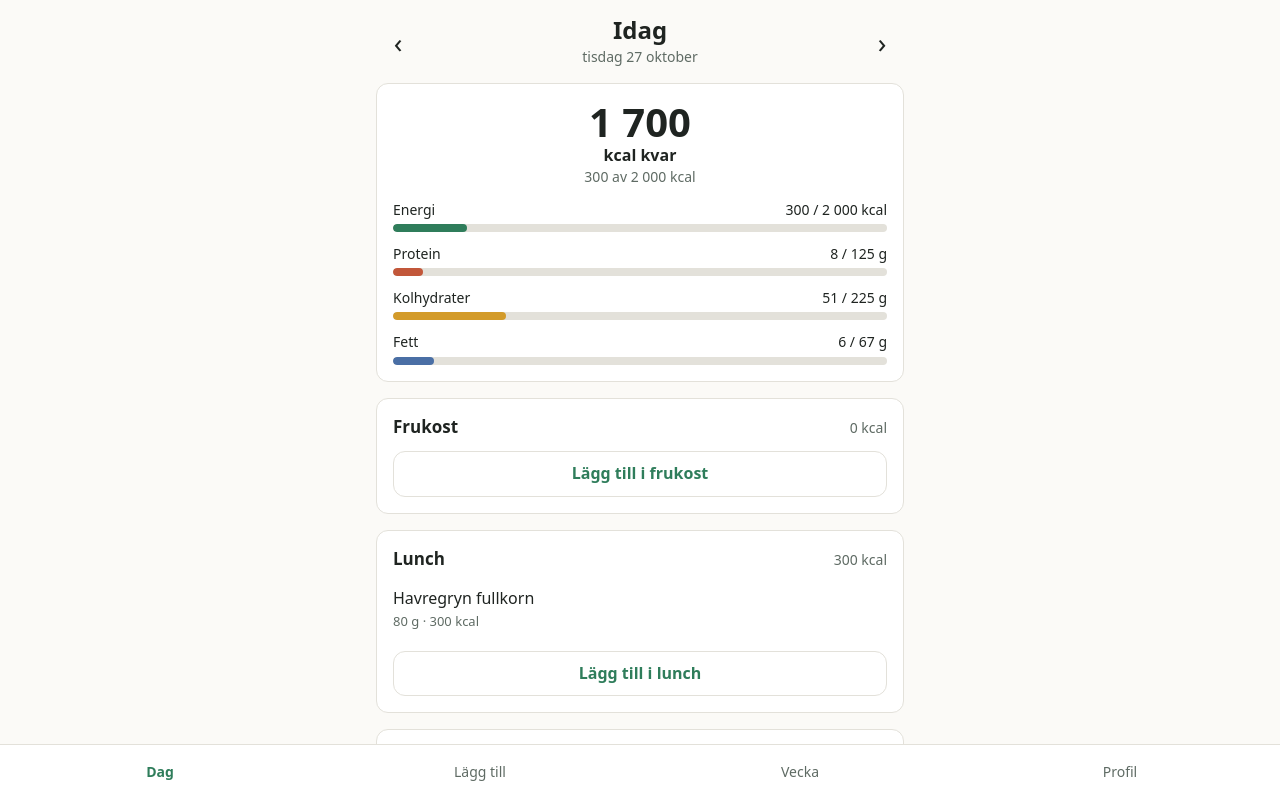
Test: stänger panelen med Escape utan att spara
Click the button "Havregryn fullkorn 80 g · 300 kcal": (464, 598) 393,579 -> 887,639
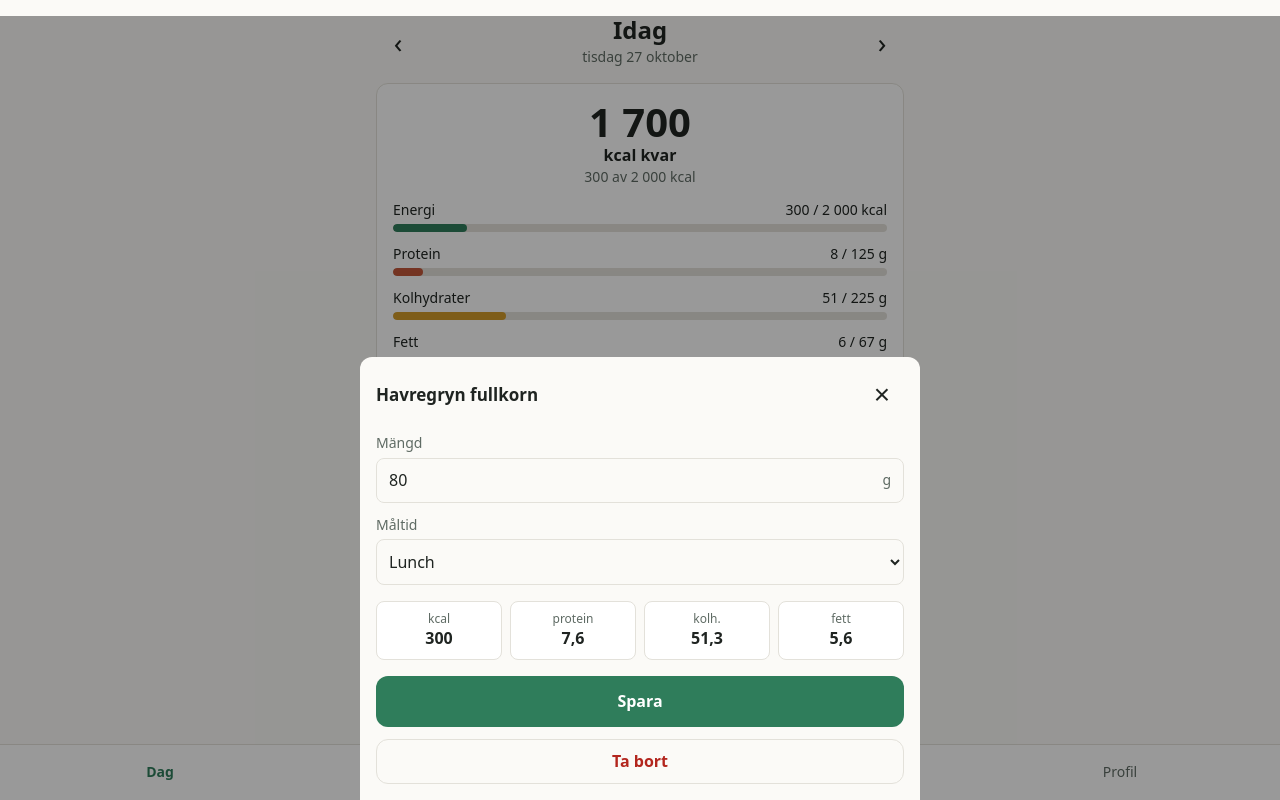
Press Escape
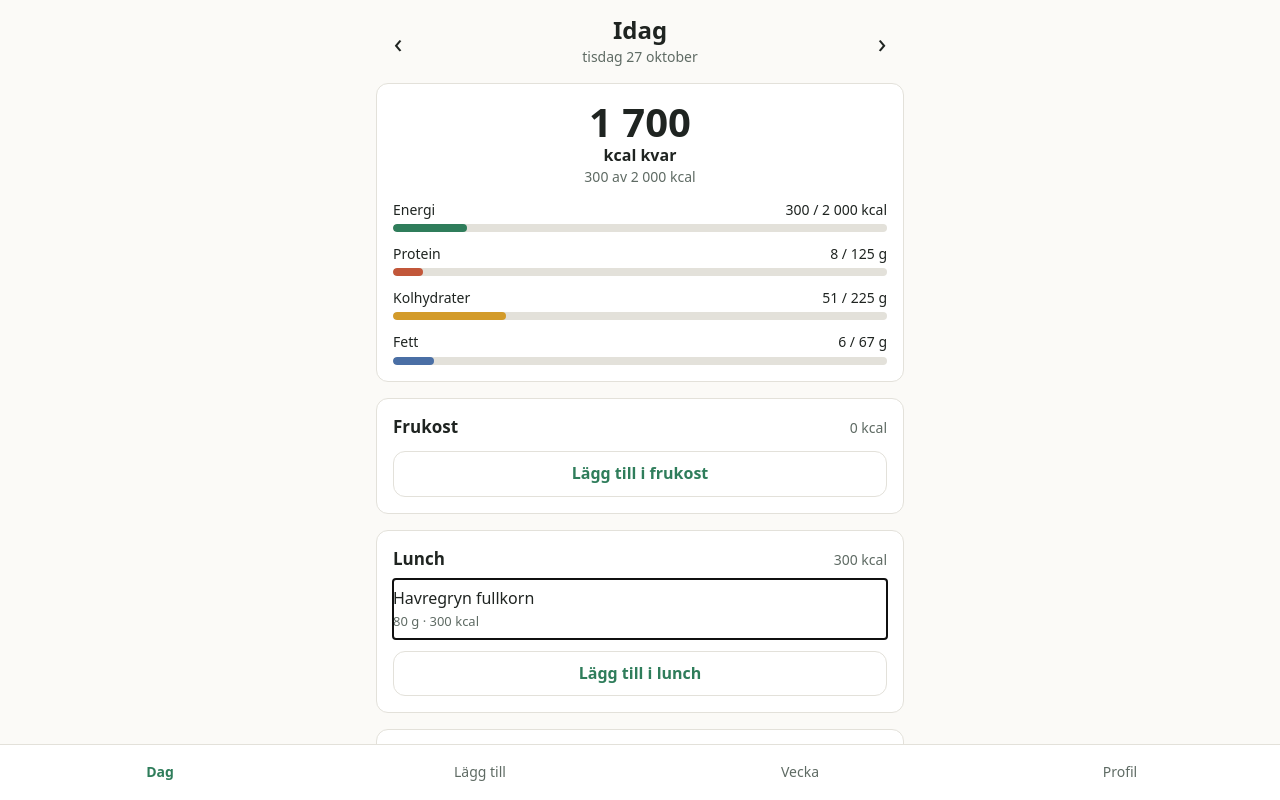
Check: the dialog is gone
